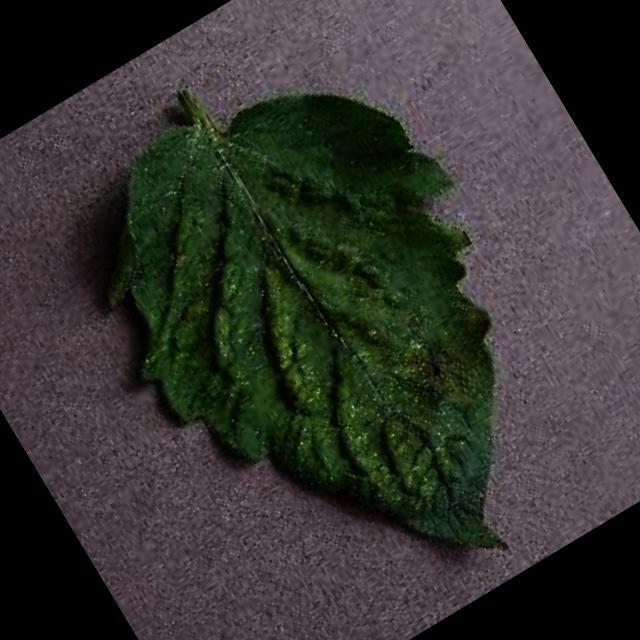Tomato spider mites leaf: (40, 21, 631, 640)
